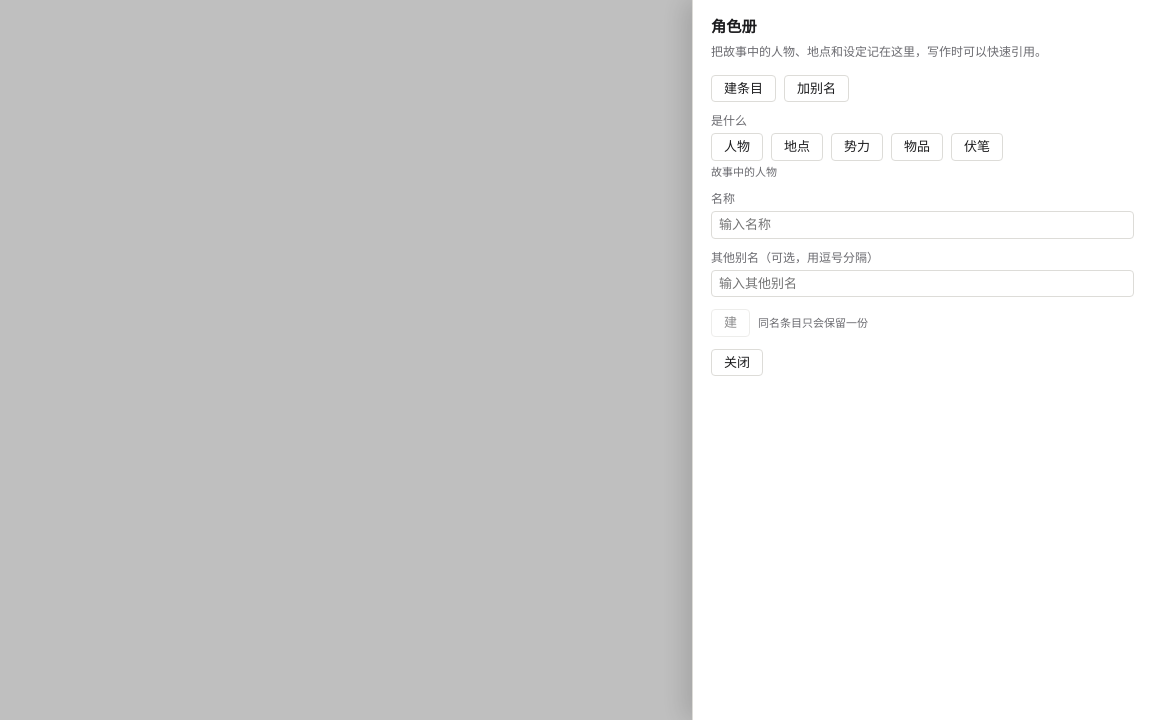
it: 角色册抽屉 › 去掉勾之后警告消失 —— 那句提示给的是出路，不是唠叨
The width and height of the screenshot is (1152, 720).
Click the button "加别名" at (816, 89), box [784,75,849,102]
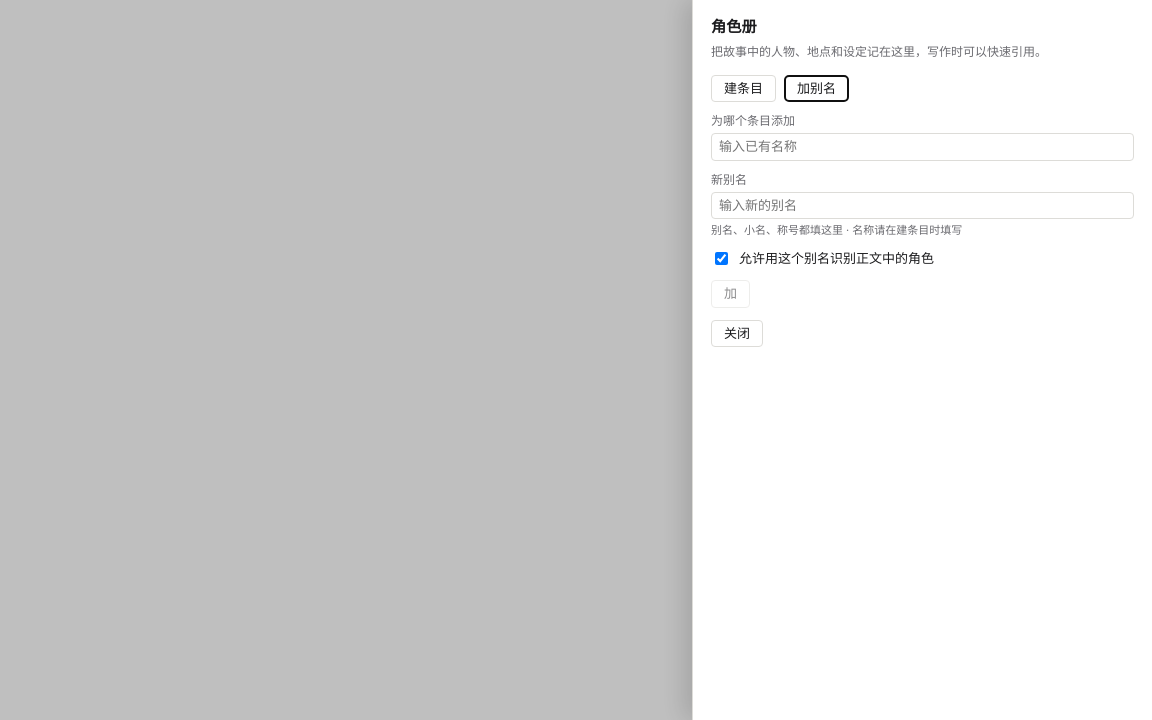
Type "名" into the field with placeholder "输入新的别名" at (922, 206), box [711,192,1134,219]
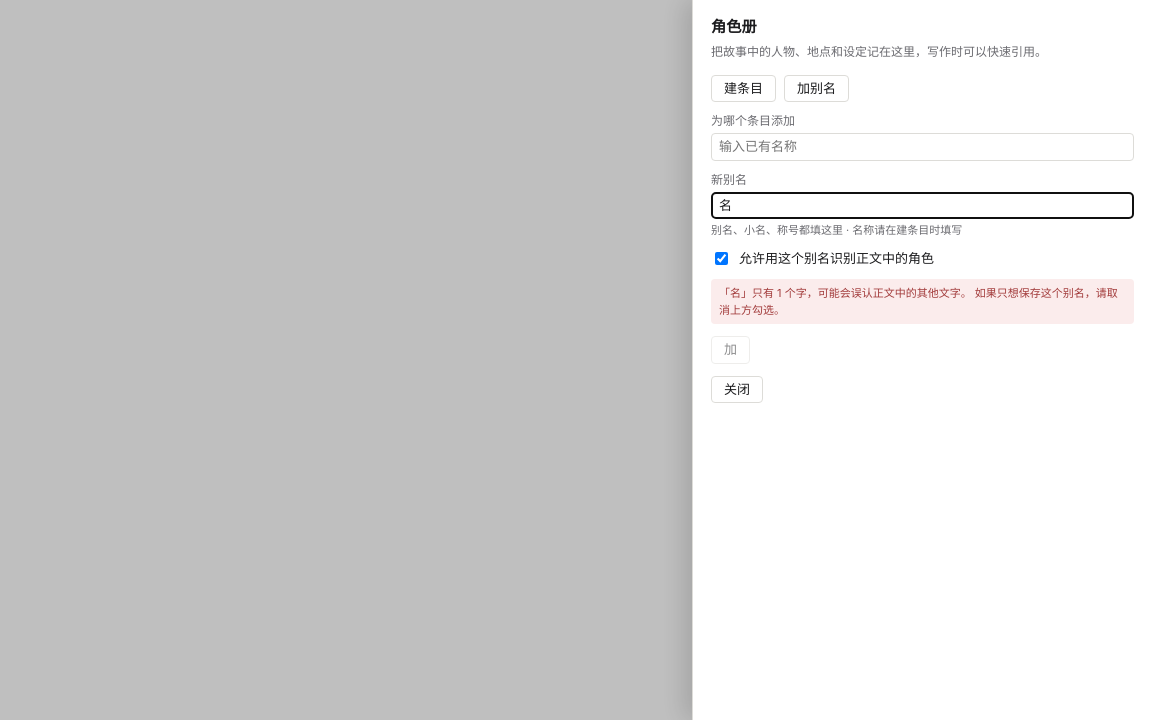
Click the checkbox at (722, 258), box [715,252,728,265]
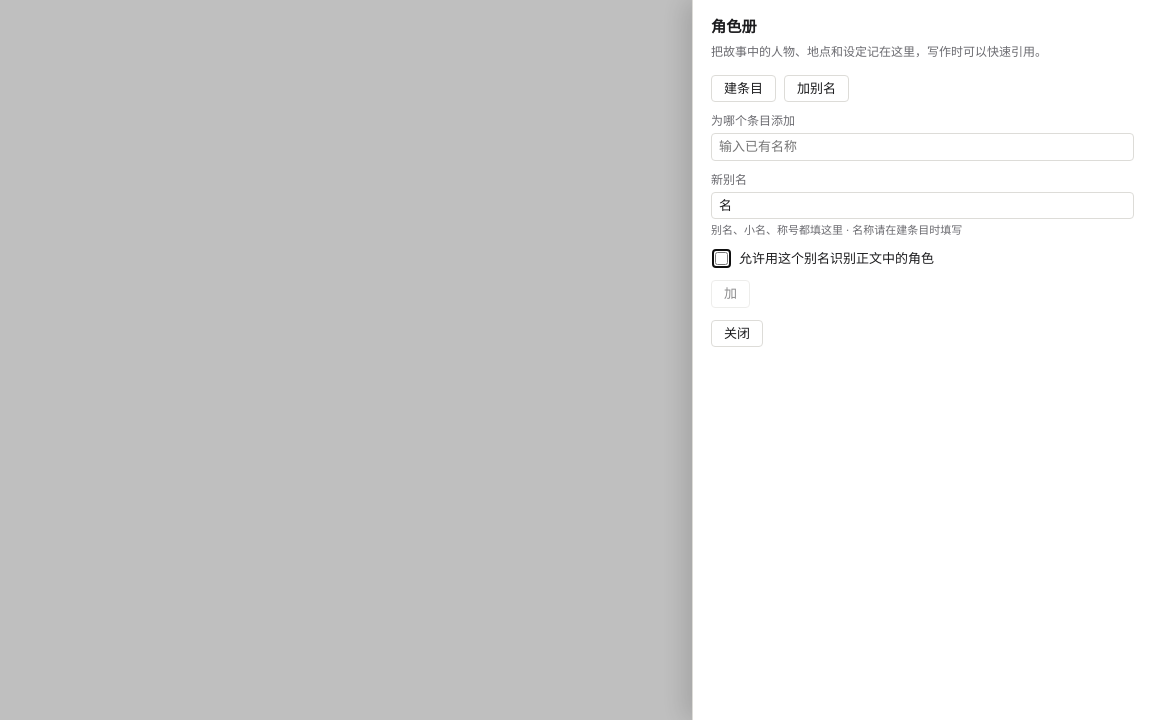
Check: the text "只有 1 个字" is gone
